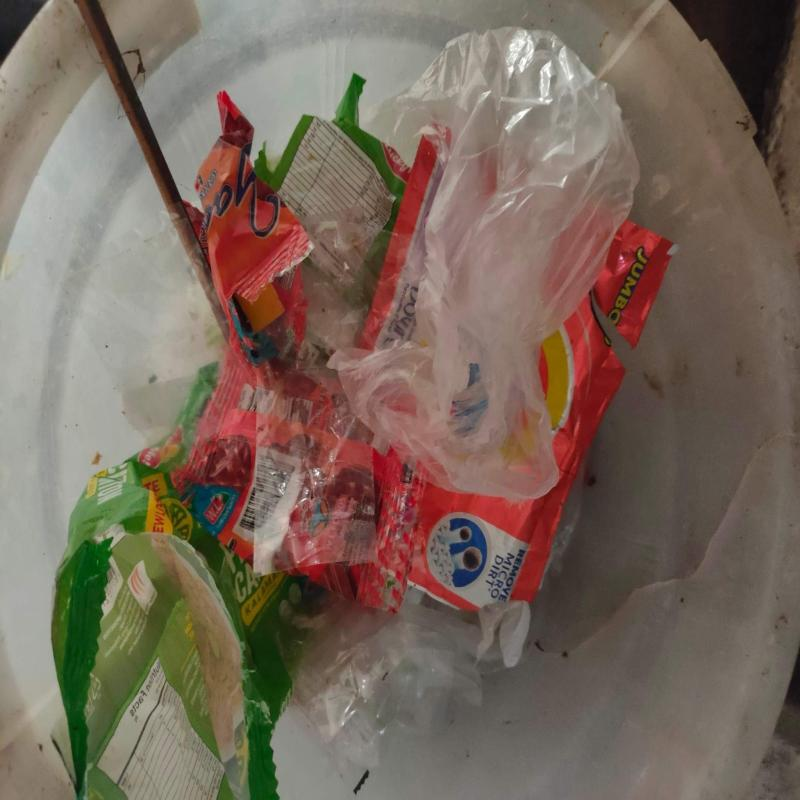food wrapper: (53, 363, 306, 800), (176, 340, 424, 608), (184, 91, 314, 384), (253, 73, 410, 313)
plastic bag: (332, 33, 640, 500)
plastic sachet: (408, 219, 678, 610)
